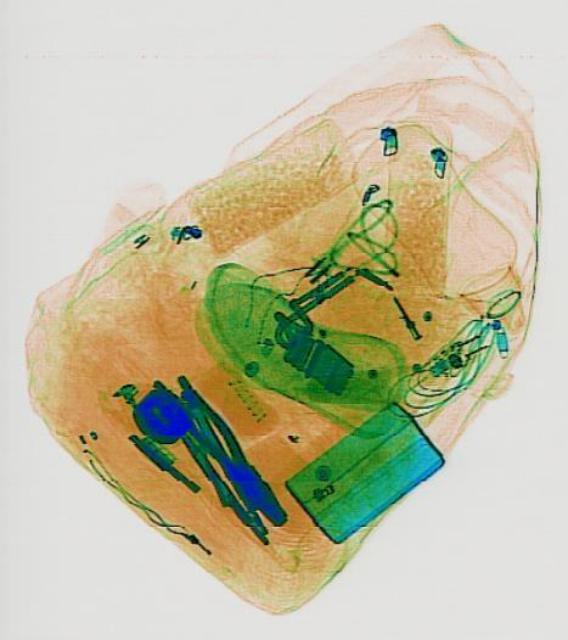Pliers: (144, 359, 296, 535)
